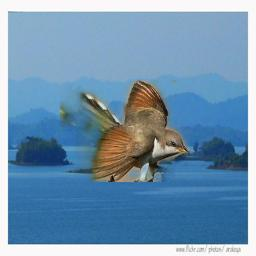Cuckoo: (60, 80, 190, 182)
